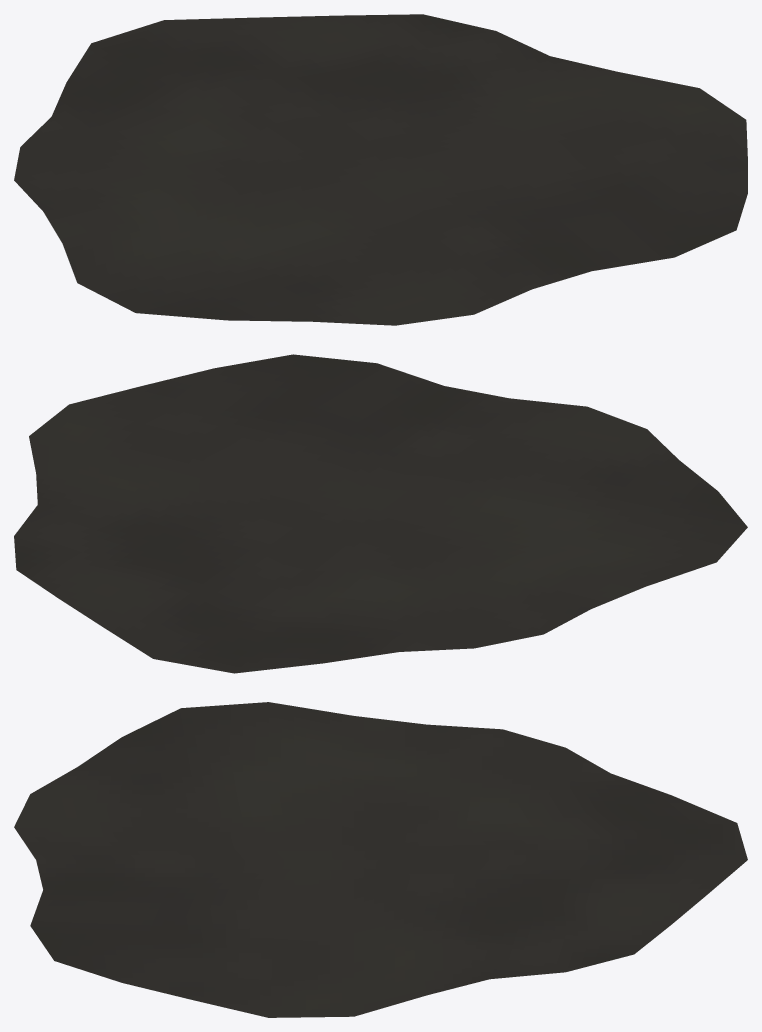
The model's file is puddle.glb.
3 views of the same model, one above another, from view 1: azimuth 30°, elevation 25°; view 2: azimuth 150°, elevation 25°; view 3: azimuth 270°, elevation 25° (orthographic). The views are drawn at different scales.
Parts seen in each view (by area): view 1: puddle; view 2: puddle; view 3: puddle.
Boxes of the visible parts, x1,y1,x2,y2 form: puddle: (14, 14, 747, 325); puddle: (14, 354, 747, 673); puddle: (14, 702, 747, 1017).
Bounding box in the file's own units: 2.1 × 0 × 2.06.
Materials: 1 (1 with a texture image).
